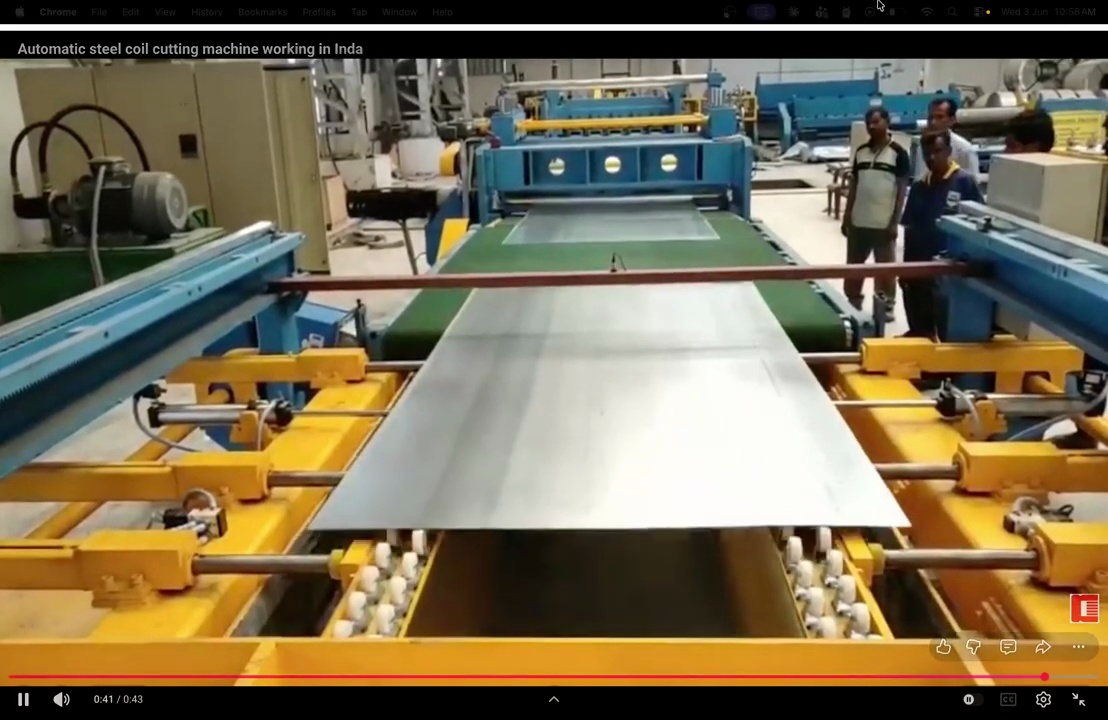steel plate: (311, 284, 907, 531), (503, 202, 718, 244)
